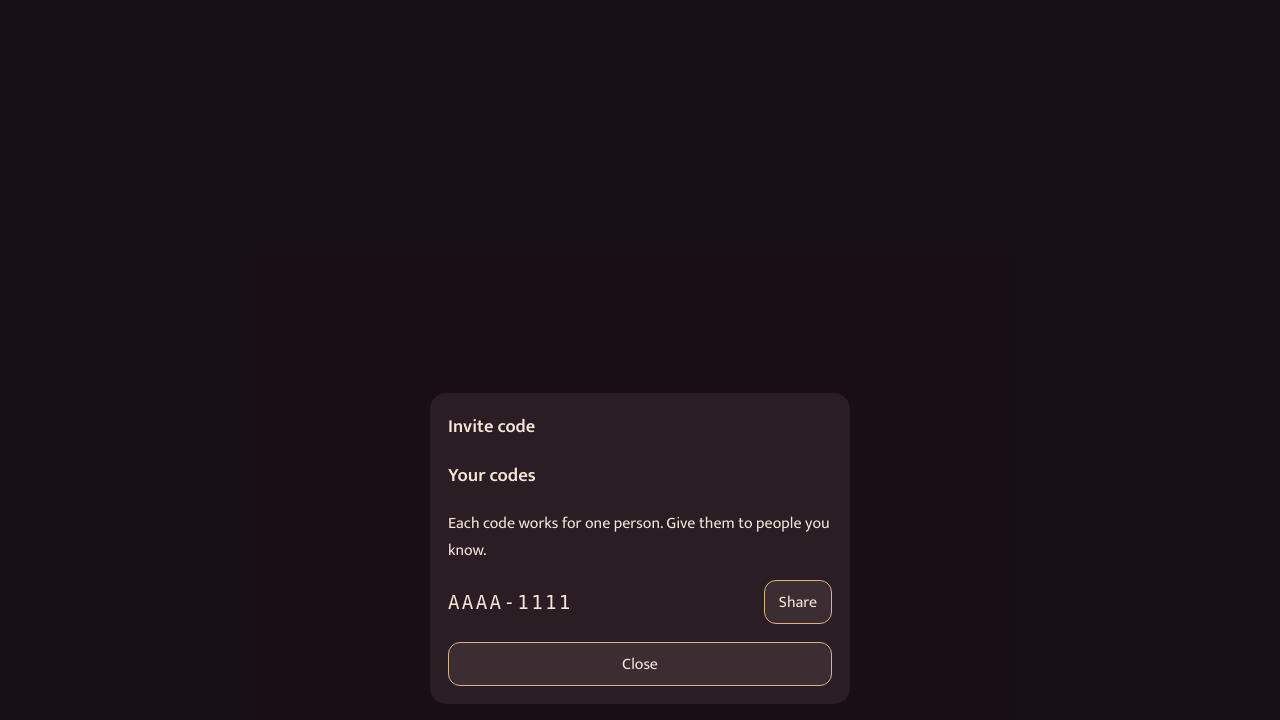
it: both failing shows the code to send by hand
The width and height of the screenshot is (1280, 720).
Click the button "Share" at (798, 602), box top-left (764, 580), bottom-right (832, 624)
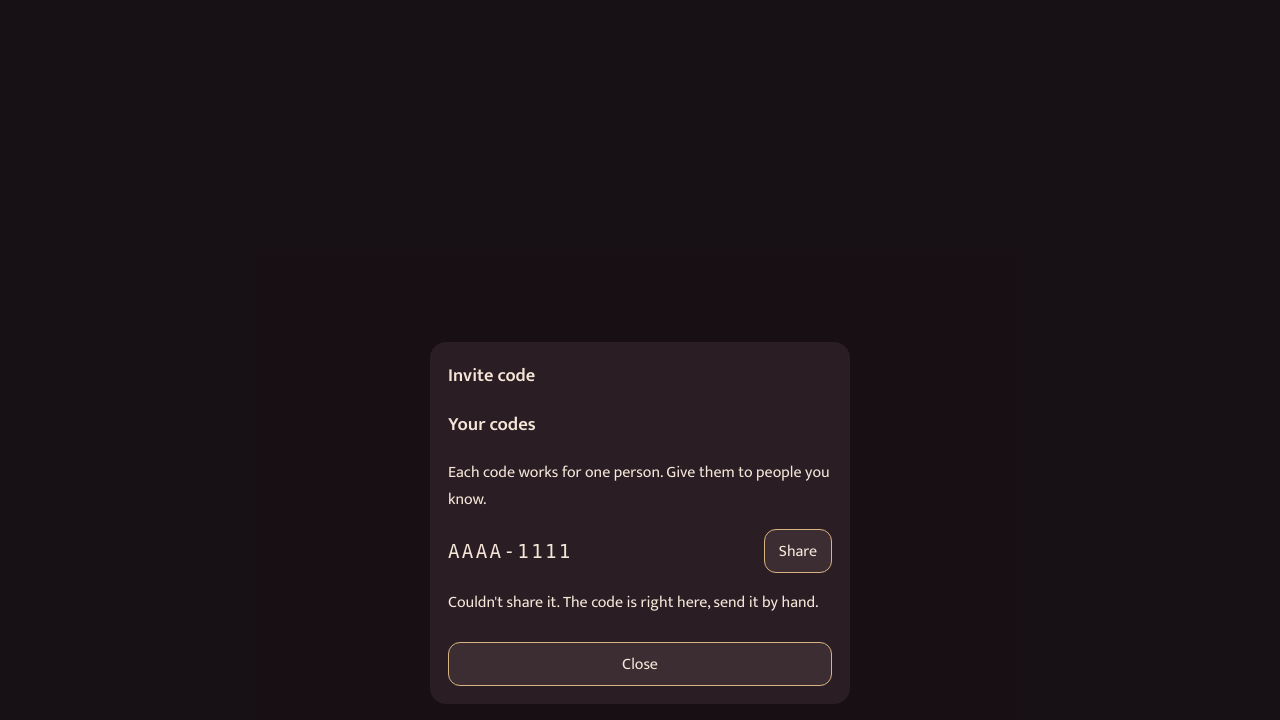
Expected: the text "AAAA-1111" is shown, top-left (448, 540), bottom-right (573, 562)
Expected: the text "send it by hand" is shown, top-left (448, 589), bottom-right (818, 616)
